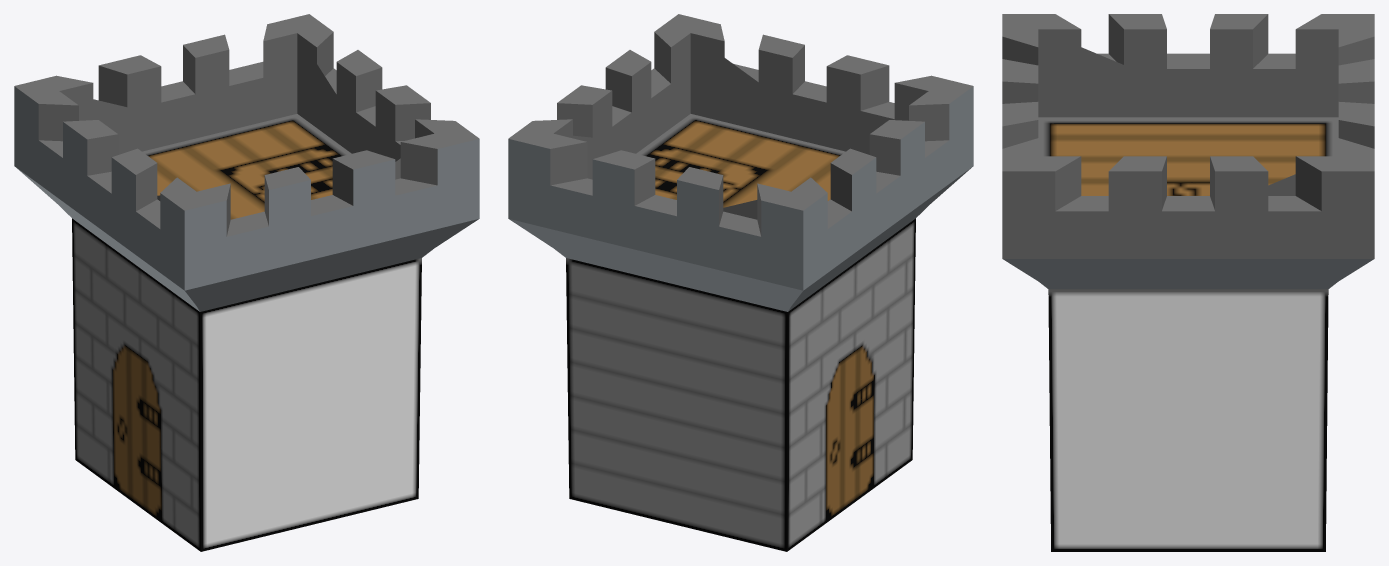
File: крепостная башня.fbx
The picture shows the model from 3 angles, left to right: view 1: azimuth 30°, elevation 25°; view 2: azimuth 150°, elevation 25°; view 3: azimuth 270°, elevation 25°; orthographic projection. The views are drawn at different scales.
Visible parts, largest first — view 1: Cube; view 2: Cube; view 3: Cube.
Boxes of the visible parts, x1,y1,x2,y2 form: Cube: [14, 14, 479, 551]; Cube: [508, 14, 973, 551]; Cube: [1002, 14, 1374, 551].
Bounding box in the file's own units: 733 × 871 × 733.
